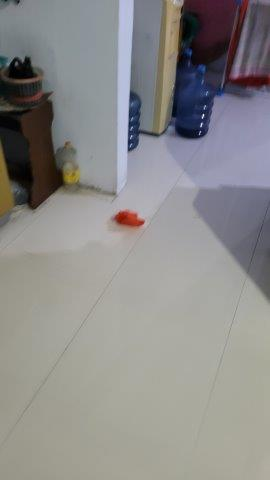plastik: (107, 205, 151, 234)
